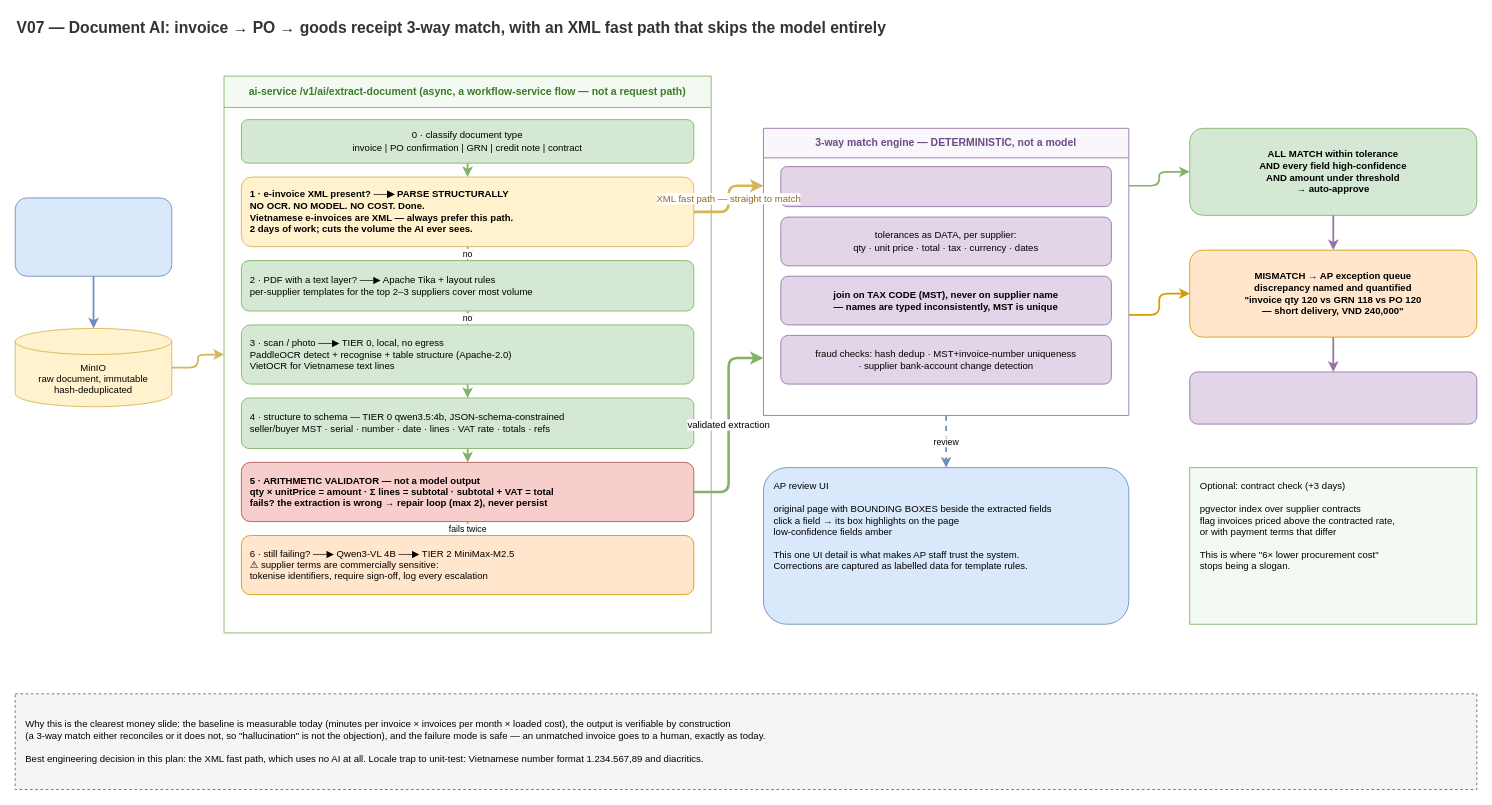
Image size: 1492x805. Some labels were removed from this diagram. The shapes that lost their labels are listed below. From the top down, each one's box as (x1, y1, x2, y2) in pixels, then its label:
(780, 166, 1111, 207): invoice ↔ purchase-service PO ↔ stock-service GRN
(14, 197, 172, 276): Supplier email · upload · e-invoice XML
(1189, 371, 1477, 424): payment-service payable created
